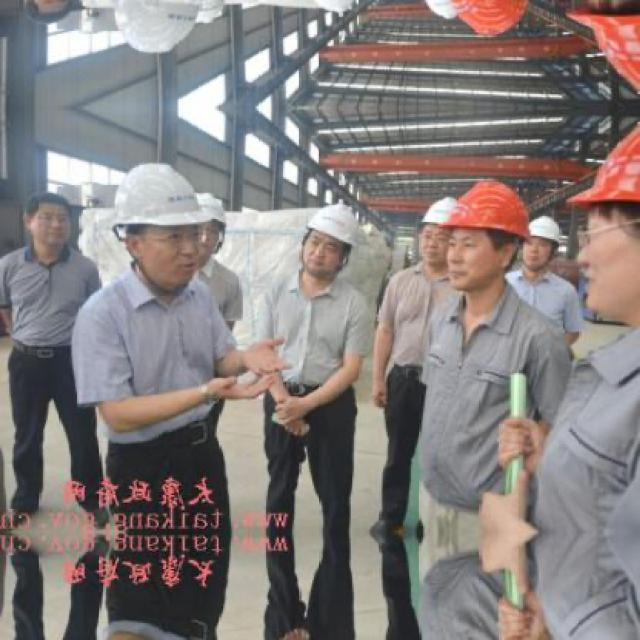con casco: (114, 162, 216, 251), (595, 118, 640, 261), (424, 184, 540, 234), (286, 185, 358, 262), (510, 213, 582, 269)
sin casco: (17, 190, 70, 227)
